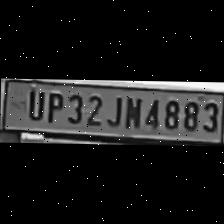2: (83, 90, 103, 124)
3: (199, 98, 219, 132), (64, 90, 82, 124)
4: (140, 95, 160, 128)
8: (178, 97, 198, 130), (160, 96, 180, 128)
J: (102, 93, 122, 127)
N: (120, 94, 142, 128)
P: (42, 89, 62, 123)
U: (23, 86, 43, 120)
